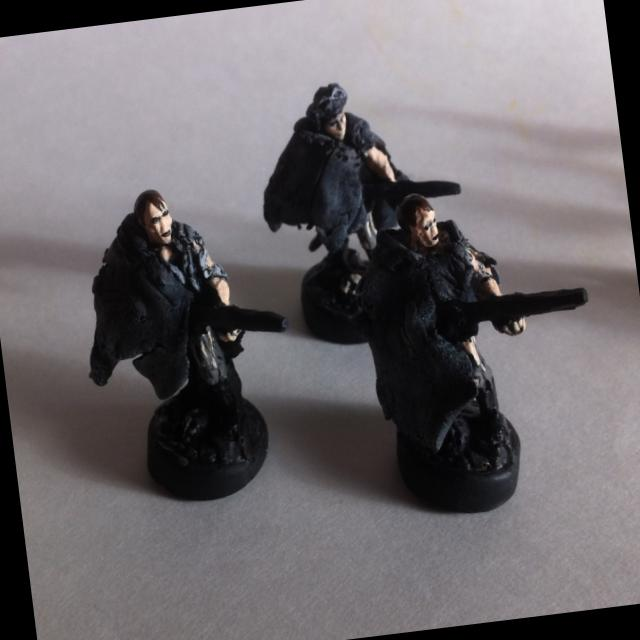Toy: (344, 173, 613, 524), (66, 175, 308, 512), (248, 68, 478, 354)
